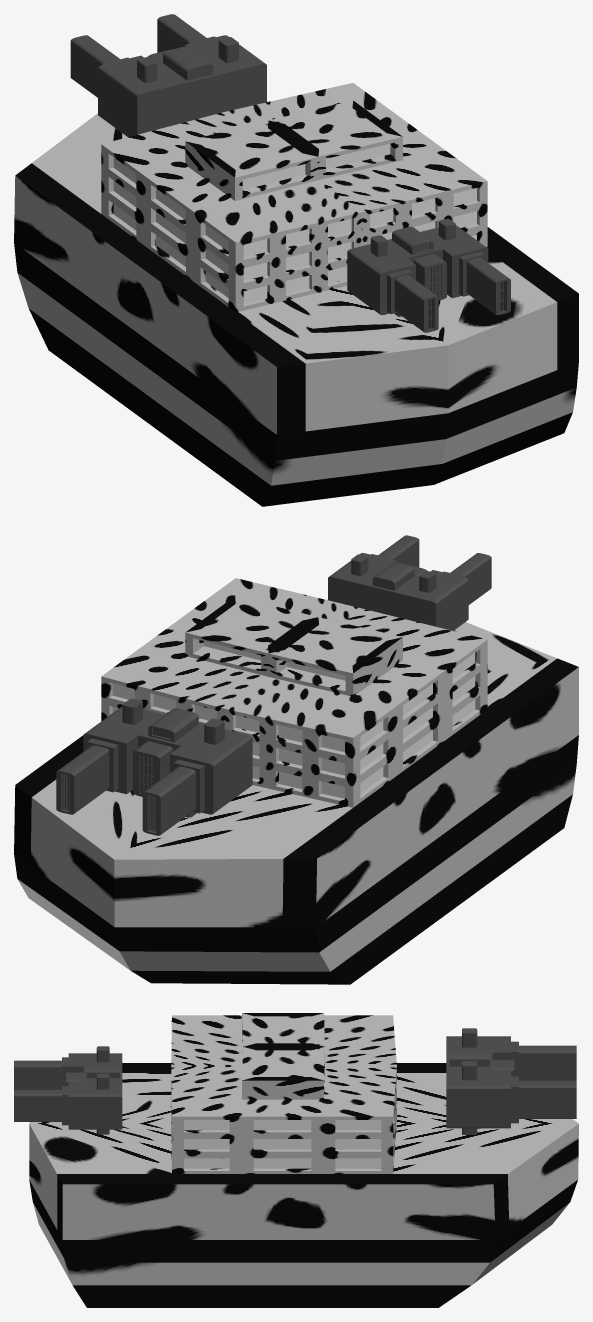
Rendered from SILVER_LightCruiser.fbx.
3 views of the same model, one above another, from view 1: azimuth 30°, elevation 25°; view 2: azimuth 150°, elevation 25°; view 3: azimuth 270°, elevation 25° (orthographic). The views are drawn at different scales.
Visible parts, largest first — view 1: Cube, Cube.001, Cube.002; view 2: Cube, Cube.001, Cube.002; view 3: Cube, Cube.001, Cube.002.
Part boxes in pixels (x1,y1,x2,y2): Cube: [14, 83, 578, 506]; Cube.001: [70, 14, 266, 136]; Cube.002: [347, 218, 510, 332]; Cube: [14, 578, 578, 984]; Cube.001: [56, 698, 252, 835]; Cube.002: [328, 535, 491, 630]; Cube: [29, 1013, 578, 1307]; Cube.001: [446, 1028, 576, 1134]; Cube.002: [14, 1046, 122, 1134].
Size of the model in its own units: 420 by 328 by 828.
